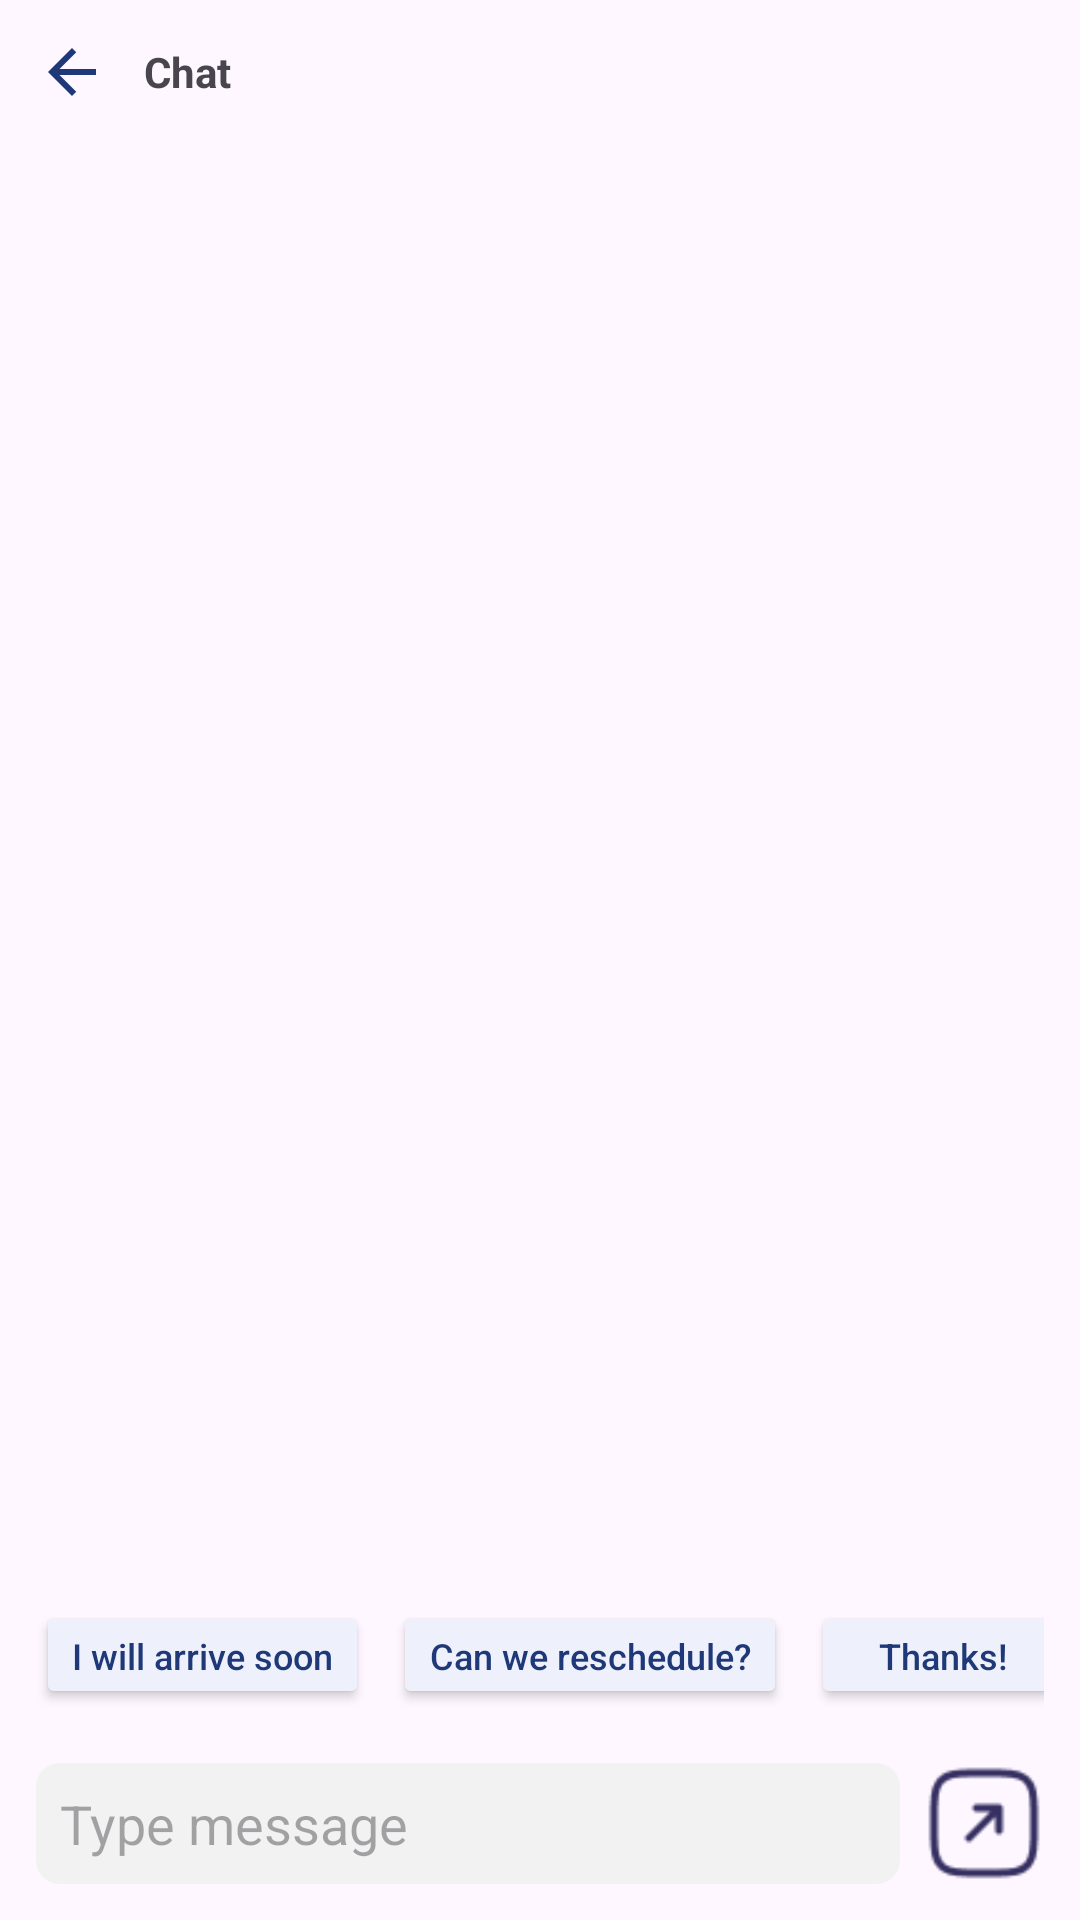

Named icons in this screenshot (1080px x 1920px) and their centers, [x,y]:
back: [72,72]
